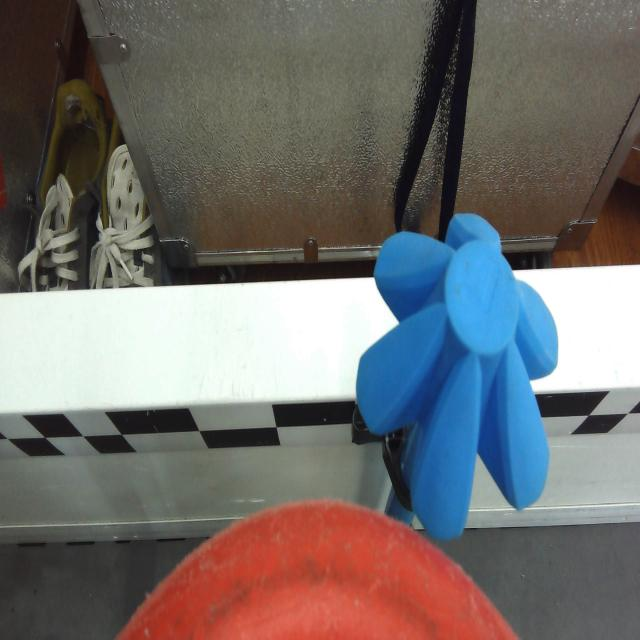zblue-Stake-Head: (357, 210, 558, 540)
